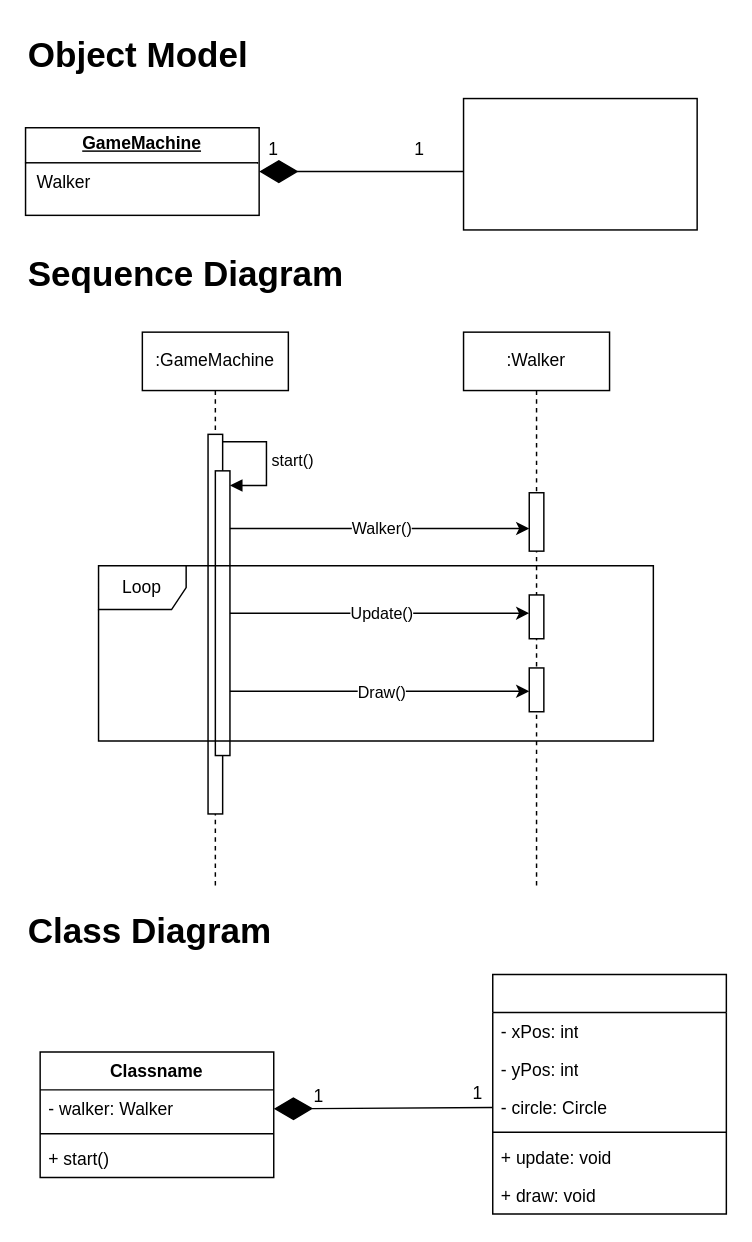
This 752x1242 diagram has some shape labels left out. The box of each missing label's shape, as (x1, y1, x2, y2) in pixels:
Walker: (491, 973, 726, 1214)
Walker xPos; yPos; circle;: (462, 97, 697, 230)
